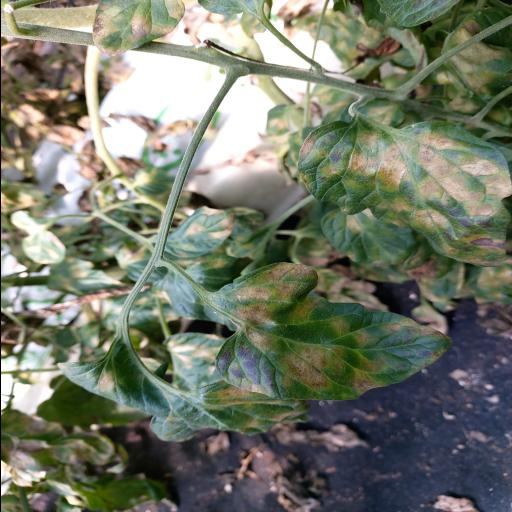disease_tomato: (214, 262, 452, 400), (296, 120, 512, 268)
